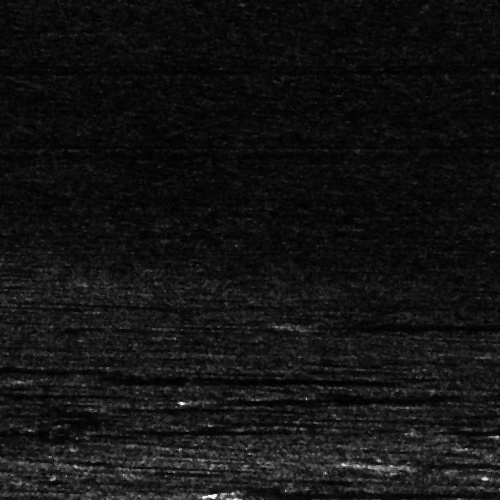object: (224, 318, 401, 331), (6, 371, 141, 384), (184, 484, 299, 497), (363, 459, 456, 468), (188, 396, 241, 401), (80, 428, 121, 431)
shadow: (74, 371, 336, 384), (242, 484, 500, 497), (312, 318, 500, 331), (0, 359, 123, 372), (214, 396, 419, 401), (410, 459, 500, 468), (101, 428, 236, 431), (0, 446, 17, 455)
